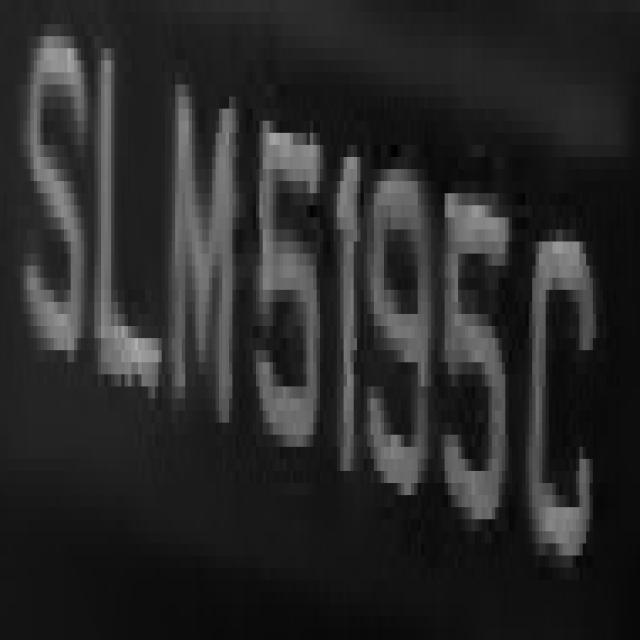1: (330, 109, 367, 543)
5: (434, 145, 516, 543), (256, 60, 327, 483)
9: (350, 120, 438, 580)
C: (522, 169, 593, 580)
L: (91, 48, 158, 411)
M: (162, 60, 242, 471)
S: (20, 0, 77, 398)
